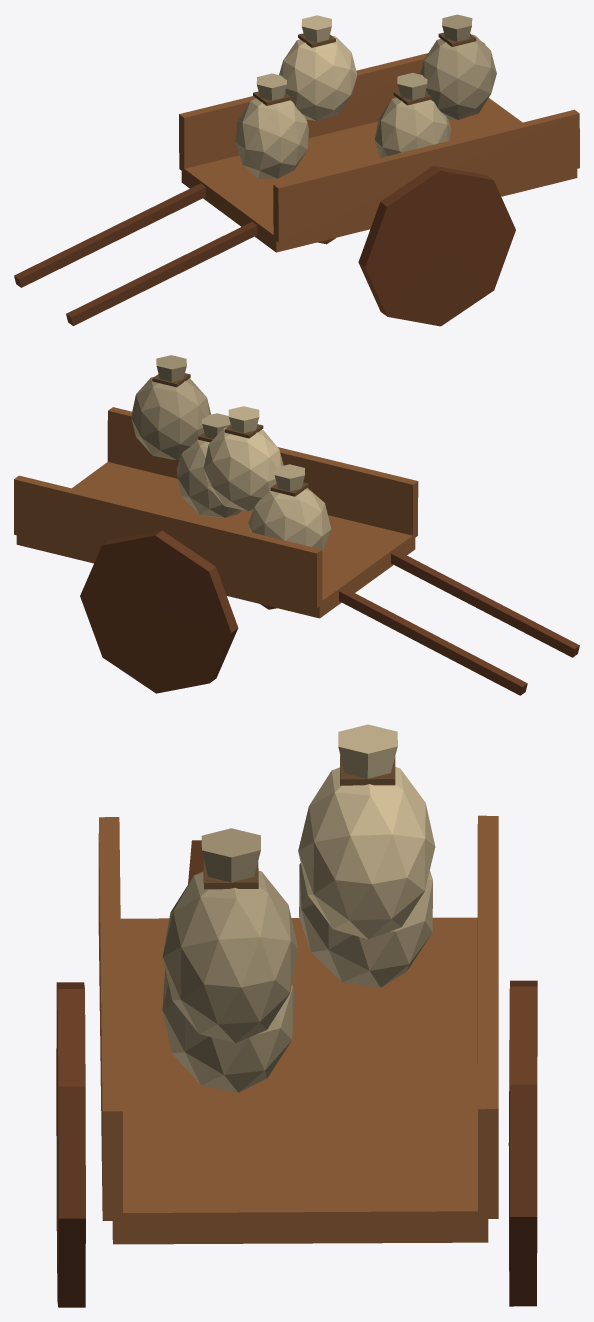
Rendered from cart-sacks.glb.
The picture shows the model from 3 angles, top to bottom: view 1: azimuth 30°, elevation 25°; view 2: azimuth 150°, elevation 25°; view 3: azimuth 270°, elevation 25°; orthographic projection. The views are drawn at different scales.
Parts seen in each view (by area): view 1: props/cart-sacks; view 2: props/cart-sacks; view 3: props/cart-sacks.
Boxes of the visible parts, <box> form: props/cart-sacks: <box>14,14,579,326</box>; props/cart-sacks: <box>14,355,579,695</box>; props/cart-sacks: <box>56,724,537,1307</box>.
Bounding box in the file's own units: 3.27 × 1.66 × 1.4.
